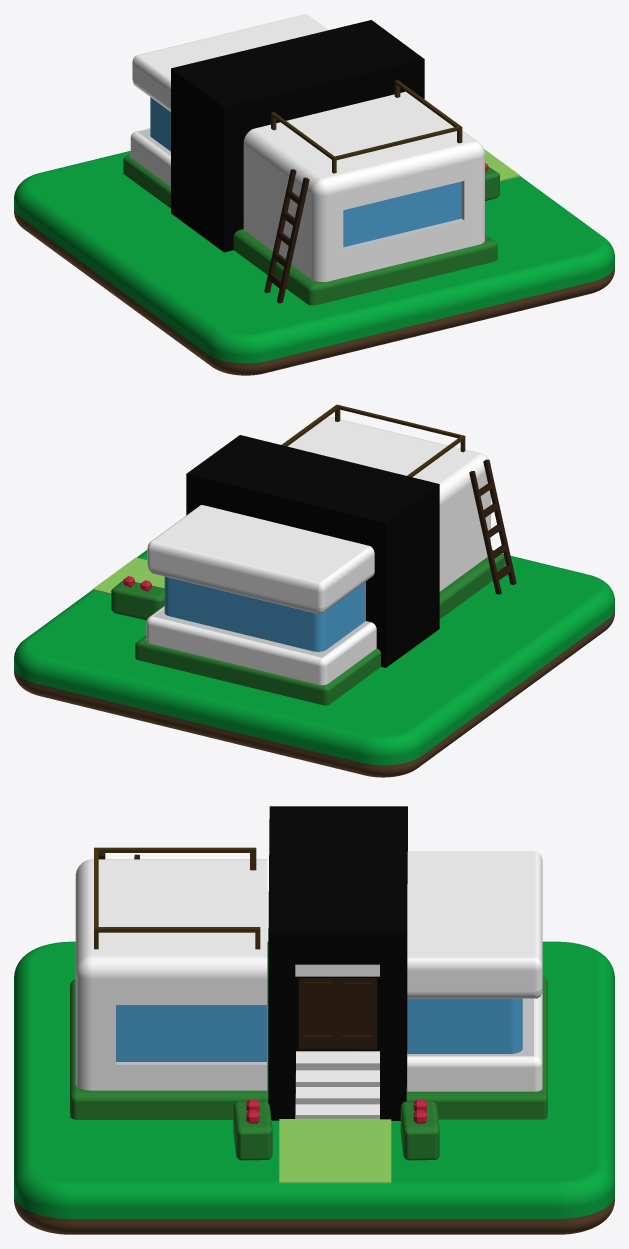
The model's file is islandHouse.glb.
3 renders of one model, top to bottom at view 1: azimuth 30°, elevation 25°; view 2: azimuth 150°, elevation 25°; view 3: azimuth 270°, elevation 25°, orthographic. The views are drawn at different scales.
Parts seen in each view (by area): view 1: Island.001, Left2, Black main, Right2, Grassleft, Stair, Fence, GrassRight, GlassRight; view 2: Island.001, Black main, Right2, Left2, GlassRight, GrassRight, Stair, Grassleft, KustR, Fence, Plane; view 3: Island.001, Left2, Black main, Right2, Plane, GlassRight, Grassleft, Stairs, GrassRight, Fence, KustL, KustR (+1 smaller).
Boxes of the visible parts, bbox=[...] form: Island.001: bbox=[14, 151, 614, 375]; Left2: bbox=[243, 91, 484, 281]; Black main: bbox=[171, 20, 424, 252]; Right2: bbox=[130, 14, 328, 186]; Grassleft: bbox=[233, 229, 497, 305]; Stair: bbox=[264, 169, 309, 303]; Fence: bbox=[271, 80, 462, 173]; GrassRight: bbox=[123, 154, 170, 208]; GlassRight: bbox=[150, 97, 170, 151]; Island.001: bbox=[14, 550, 614, 777]; Black main: bbox=[186, 435, 439, 667]; Right2: bbox=[146, 505, 376, 685]; Left2: bbox=[287, 416, 490, 591]; GlassRight: bbox=[164, 577, 365, 651]; GrassRight: bbox=[135, 635, 380, 705]; Stair: bbox=[469, 459, 516, 594]; Grassleft: bbox=[439, 550, 504, 618]; KustR: bbox=[111, 581, 164, 620]; Fence: bbox=[282, 404, 465, 477]; Plane: bbox=[92, 557, 164, 594]; Island.001: bbox=[14, 941, 614, 1234]; Left2: bbox=[75, 859, 267, 1090]; Black main: bbox=[268, 806, 407, 1120]; Right2: bbox=[407, 851, 542, 1091]; Plane: bbox=[279, 1104, 391, 1183]; GlassRight: bbox=[407, 998, 522, 1053]; Grassleft: bbox=[70, 979, 268, 1119]; Stairs: bbox=[296, 1051, 379, 1118]; GrassRight: bbox=[406, 977, 547, 1119]; Fence: bbox=[94, 847, 260, 949]; KustL: bbox=[233, 1101, 272, 1160]; KustR: bbox=[400, 1101, 439, 1160].
Size of the model in its own units: 6 by 2.64 by 6.
